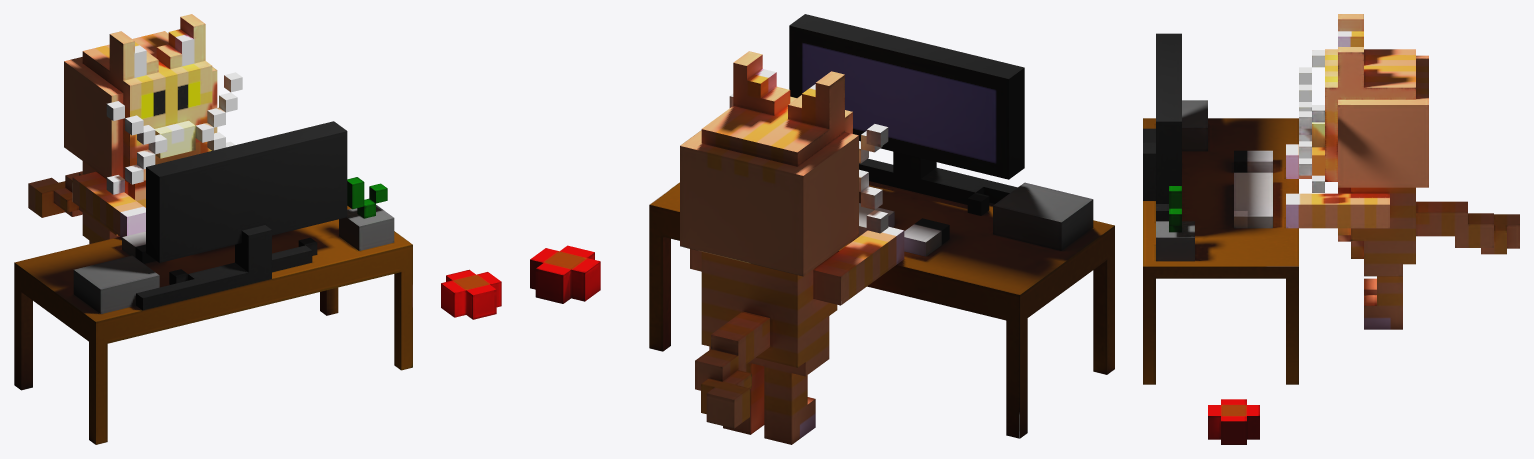
Rendered from benito3.glb.
3 renders of one model, left to right at view 1: azimuth 30°, elevation 25°; view 2: azimuth 150°, elevation 25°; view 3: azimuth 270°, elevation 25°, orthographic. The views are drawn at different scales.
Visible parts, largest first — view 1: benito.vox; view 2: benito.vox; view 3: benito.vox.
Boxes of the visible parts, x1,y1,x2,y2 form: benito.vox: (14, 14, 501, 444); benito.vox: (530, 14, 1114, 444); benito.vox: (1143, 14, 1519, 444).
Size of what is drawn, in the model's own units: 3.8 by 2.4 by 2.9.
1 material, 1 textured.
